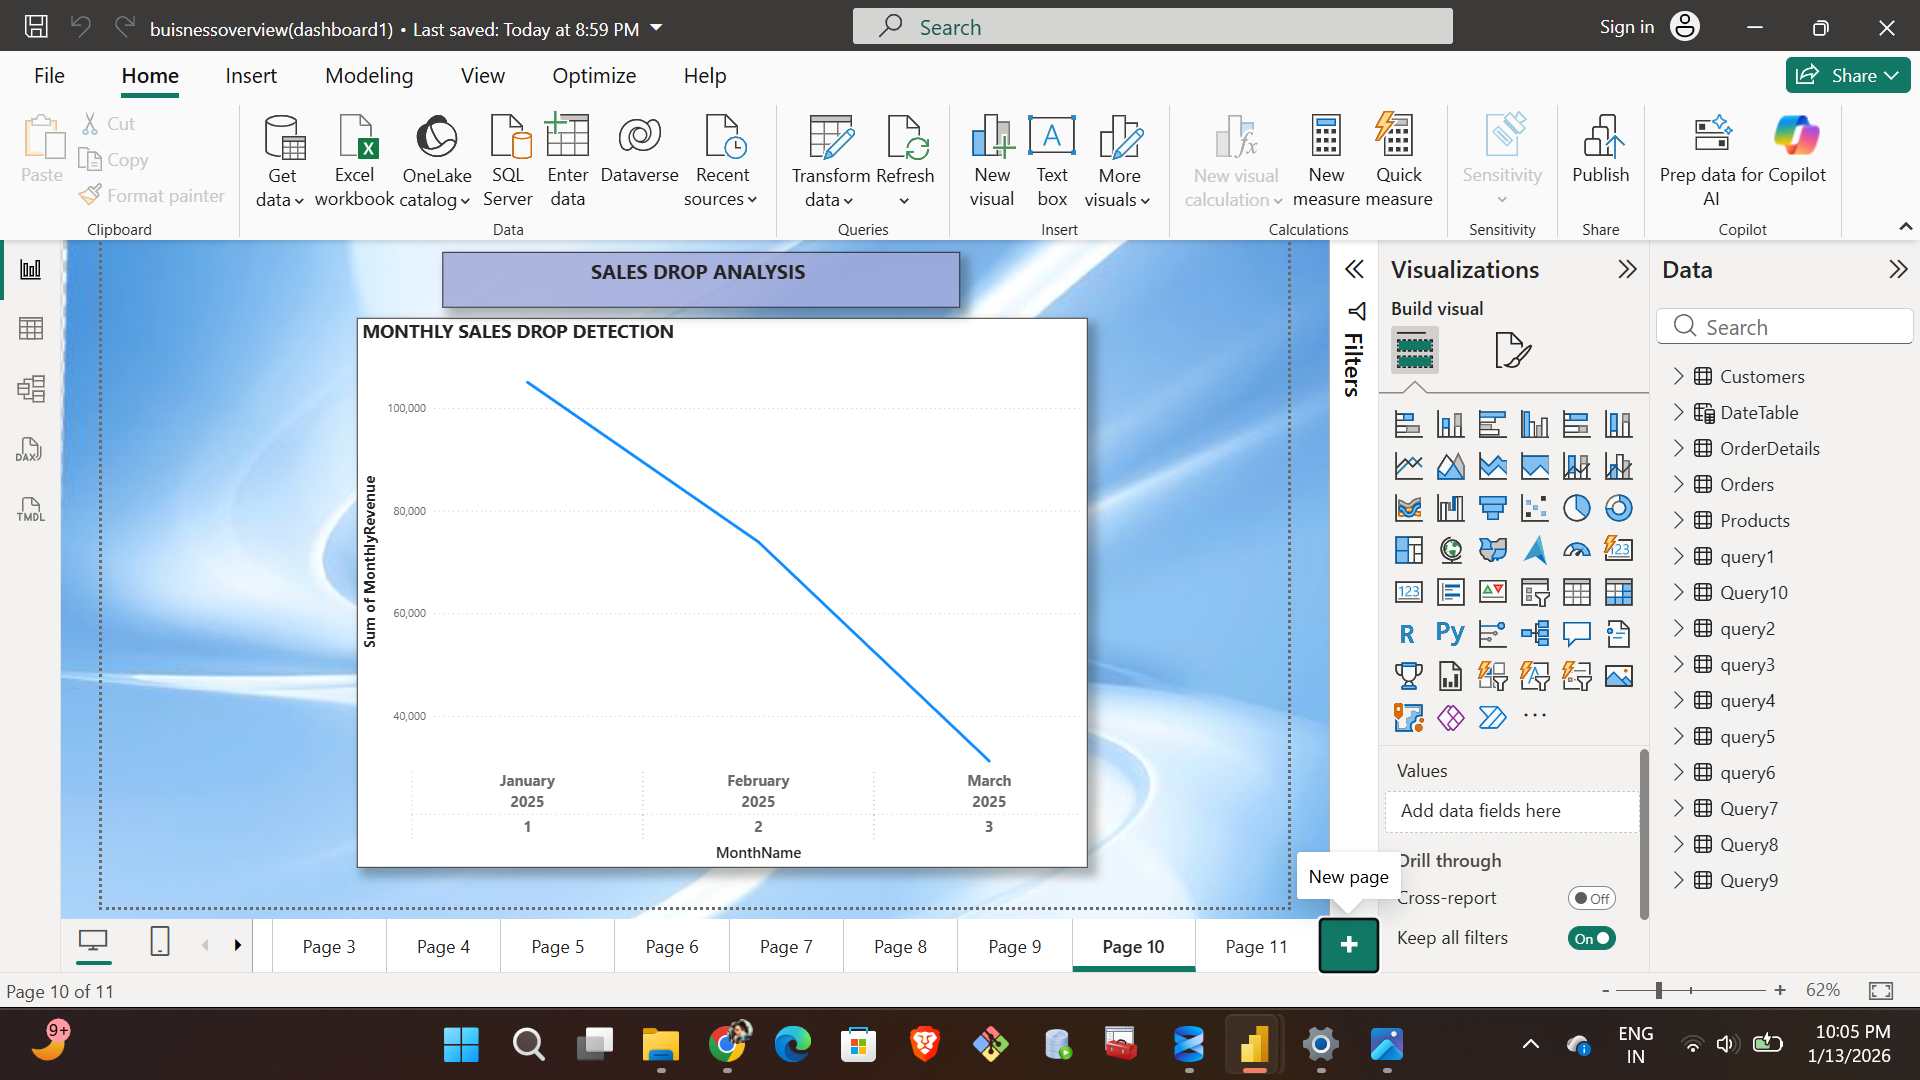

What the dashboard file says about the page in this screenshot:
{"tool":"powerbi","page":{"name":"Page 10","canvas":[1280,720],"ordinal":9},"visuals":[{"type":"lineChart","title":"MONTHLY SALES DROP DETECTION","fields":{"Category":["Query9.SalesMonth","Query9.SalesYear","Query9.MonthName"],"Y":["Sum(Query9.MonthlyRevenue)"]},"box":[275,85,788.3,593.3],"z":0},{"type":"textbox","box":[368.3,13.3,558.3,60],"z":1}]}

Visuals, with their boxes on the page's 1280x720 design canvas (x1, y1, x2, y2). These are canvas units, not pixel positions in the 1920x1080 screenshot, which may show the page scaled, cropped or inside an application window:
"MONTHLY SALES DROP DETECTION" lineChart: left=275, top=85, right=1063, bottom=678
textbox: left=368, top=13, right=927, bottom=73
